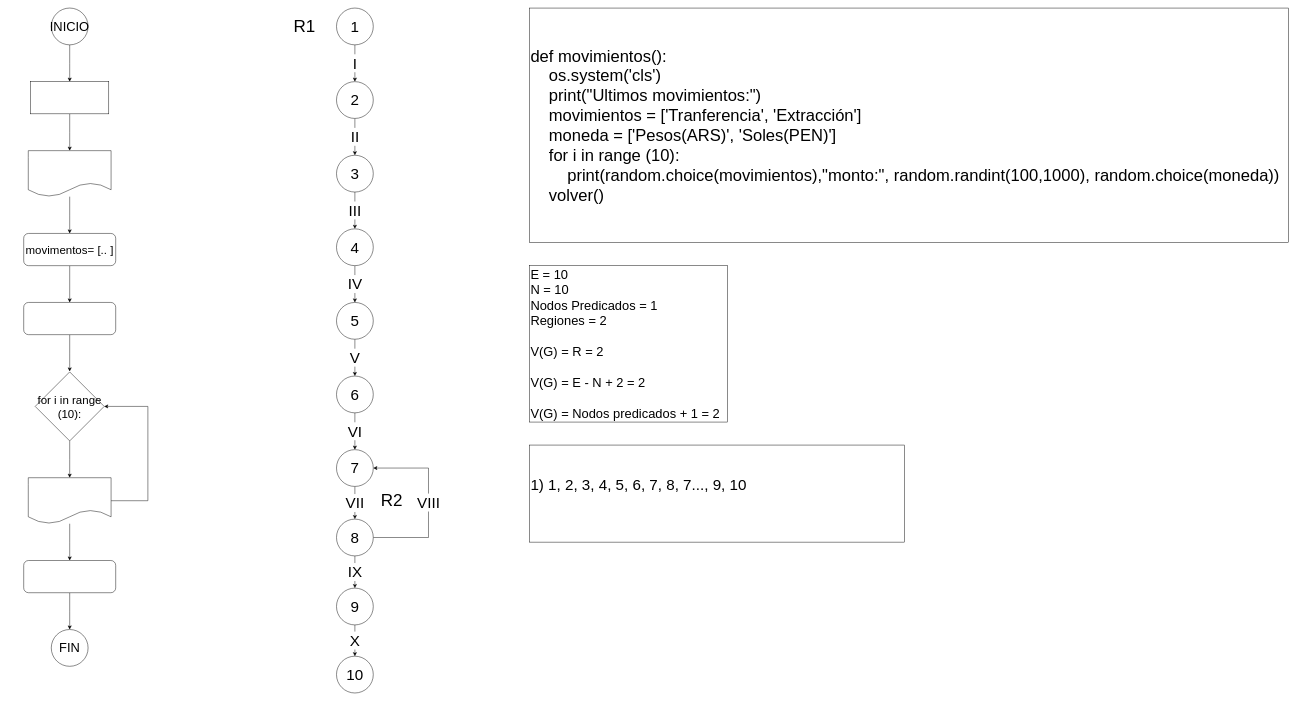
The diagram is 1297 pixels wide and 701 high, and some of its shapes have lost their labels. Here are the shapes that lost their labels. From the top down, the centre of each, then its label:
[69,97]: os.system('cls')
[69,173]: print("Por su..")
[69,318]: moneda = [ ... ]
[69,500]: print("random.choice...")
[69,576]: volver()
